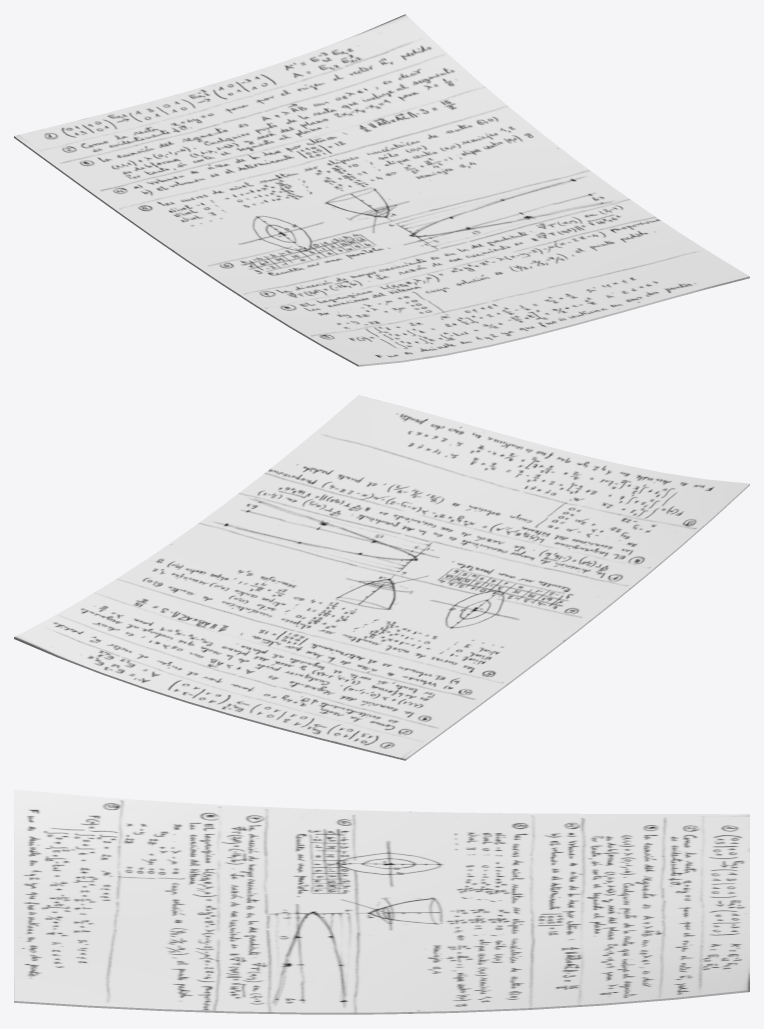
File: Paper 1.FBX
The picture shows the model from 3 angles, top to bottom: view 1: azimuth 30°, elevation 25°; view 2: azimuth 150°, elevation 25°; view 3: azimuth 270°, elevation 25°; orthographic projection. The views are drawn at different scales.
Visible parts, largest first — view 1: Paper 1; view 2: Paper 1; view 3: Paper 1.
Part boxes in pixels (left/top/right/bottom): Paper 1: left=14, top=14, right=749, bottom=366; Paper 1: left=14, top=395, right=749, bottom=760; Paper 1: left=14, top=789, right=749, bottom=1014.
Size of the model in its own units: 21.15 by 1.45 by 32.23.
Materials: 1 (1 with a texture image).
